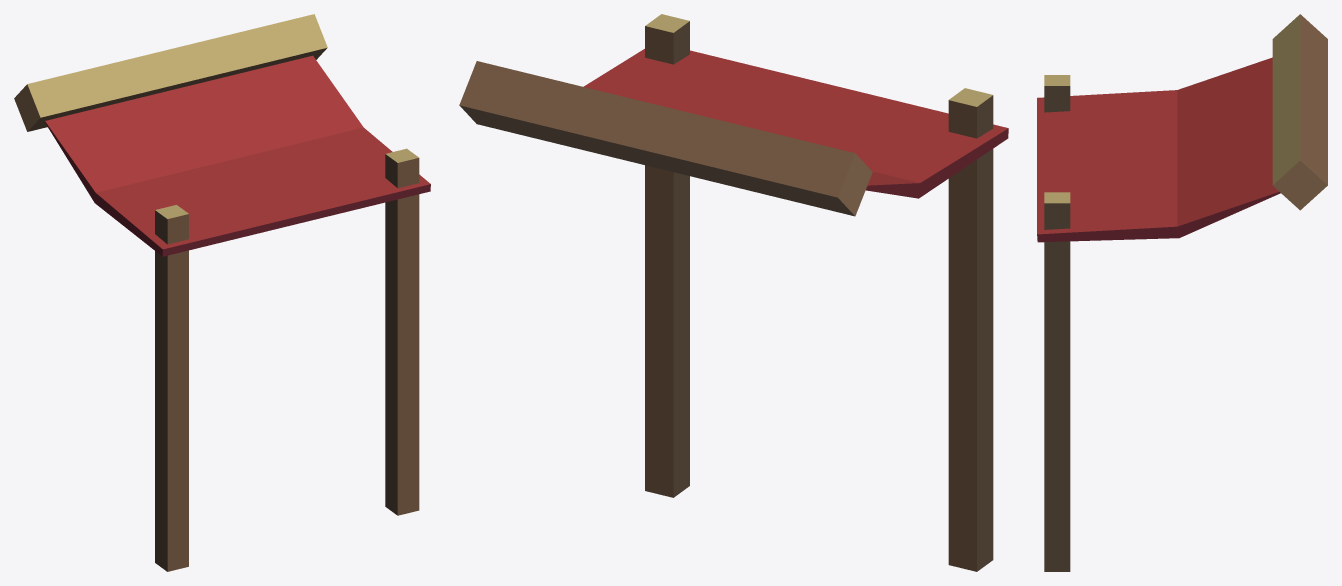
Rendered from TB_D_Bd_Canopy_Leg_A.FBX.
The picture shows the model from 3 angles, left to right: view 1: azimuth 30°, elevation 25°; view 2: azimuth 150°, elevation 25°; view 3: azimuth 270°, elevation 25°; orthographic projection. The views are drawn at different scales.
Parts seen in each view (by area): view 1: TB_D_Bd_Canopy_Leg_A; view 2: TB_D_Bd_Canopy_Leg_A; view 3: TB_D_Bd_Canopy_Leg_A.
Boxes of the visible parts, bbox=[...] form: TB_D_Bd_Canopy_Leg_A: bbox=[14, 14, 430, 571]; TB_D_Bd_Canopy_Leg_A: bbox=[459, 14, 1008, 571]; TB_D_Bd_Canopy_Leg_A: bbox=[1037, 14, 1327, 571].
Bounding box in the file's own units: 1.88 × 2.52 × 1.58.
